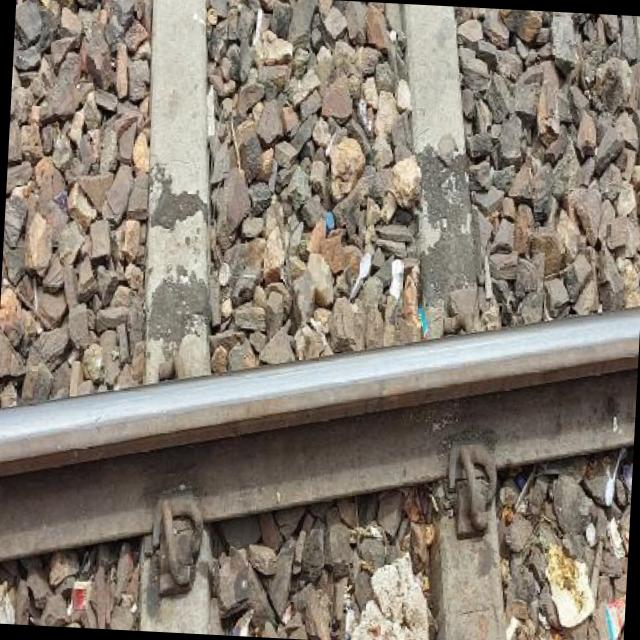non-defective: (0, 242, 640, 613)
